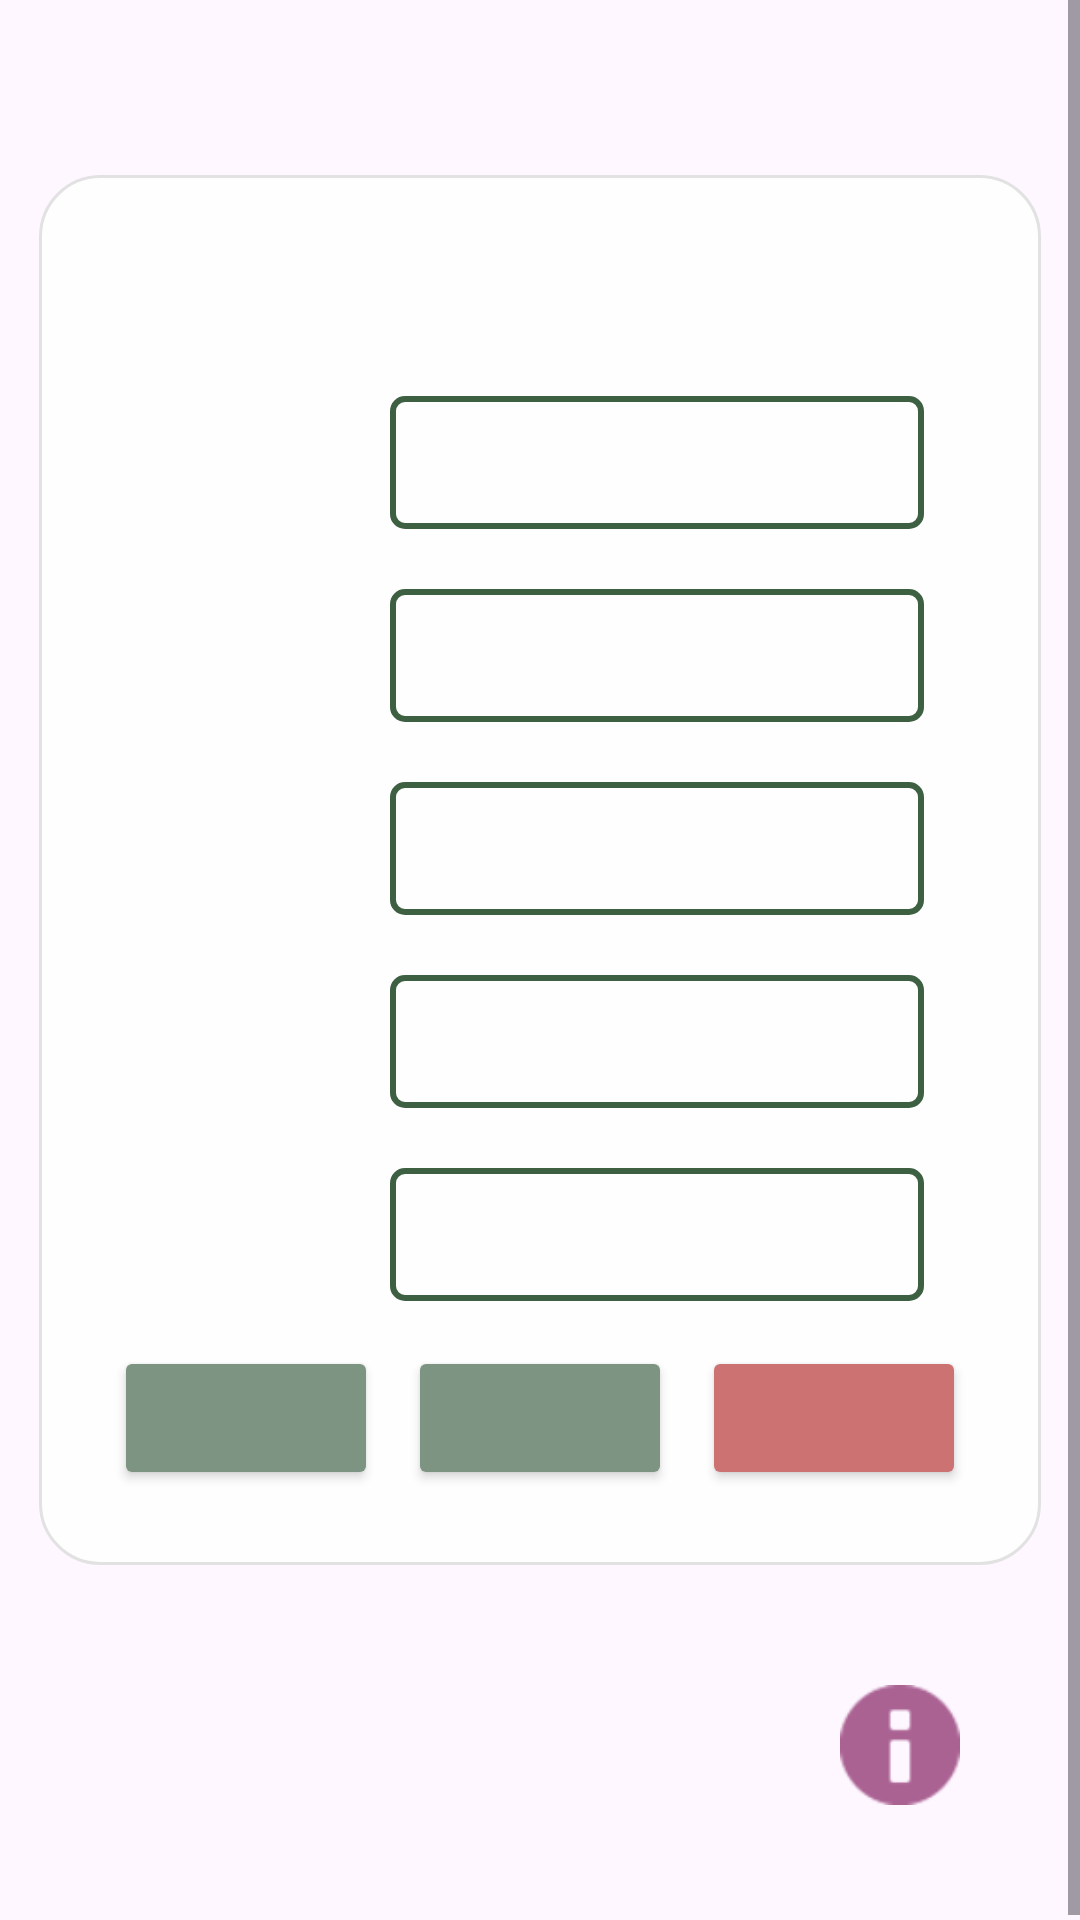

Icons on this 1080px x 1920px Android screen, each with the point to tap as point (x, y):
info: point (900, 1745)
